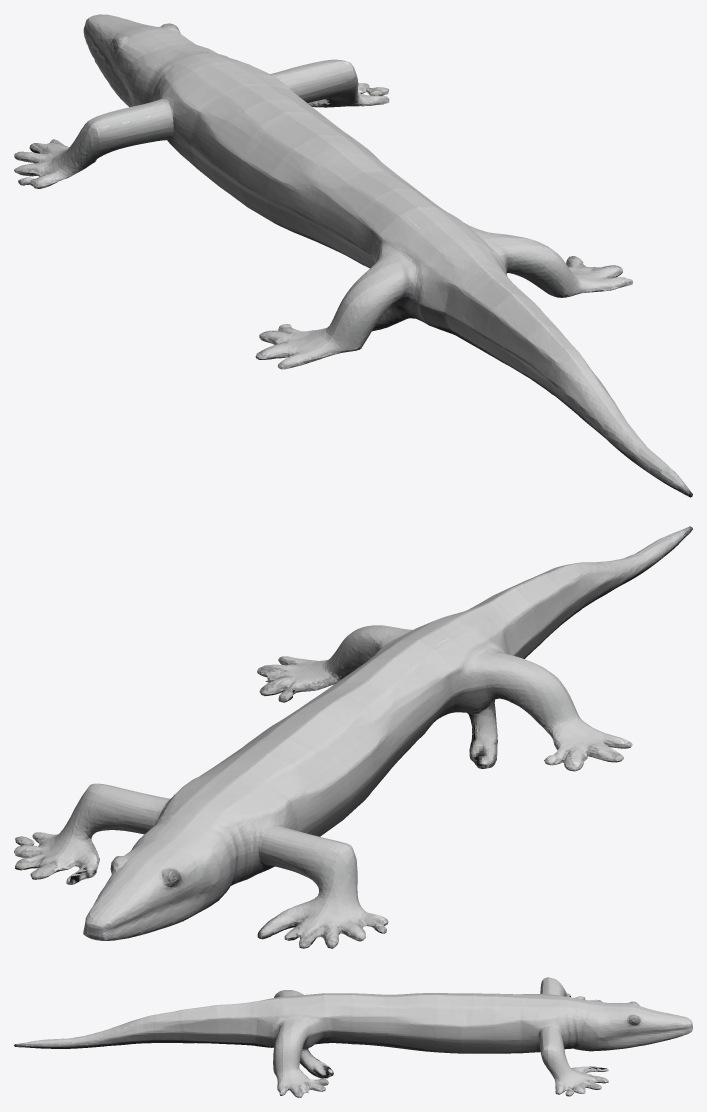
3 renders of one model, top to bottom at view 1: azimuth 30°, elevation 25°; view 2: azimuth 150°, elevation 25°; view 3: azimuth 270°, elevation 25°, orthographic. The views are drawn at different scales.
Parts seen in each view (by area): view 1: world; view 2: world; view 3: world.
Part boxes in pixels (left/top/right/bottom): world: left=14, top=14, right=692, bottom=497; world: left=14, top=526, right=692, bottom=948; world: left=14, top=977, right=692, bottom=1097.
Bounding box in the file's own units: 0.3568 × 0.1005 × 1.
2 materials, 2 textured.
